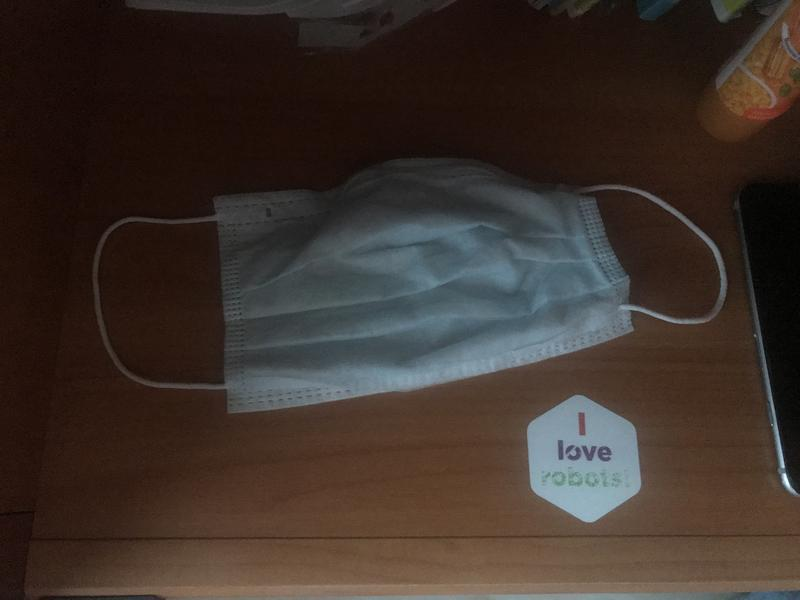medical_mask: (93, 155, 727, 404)
